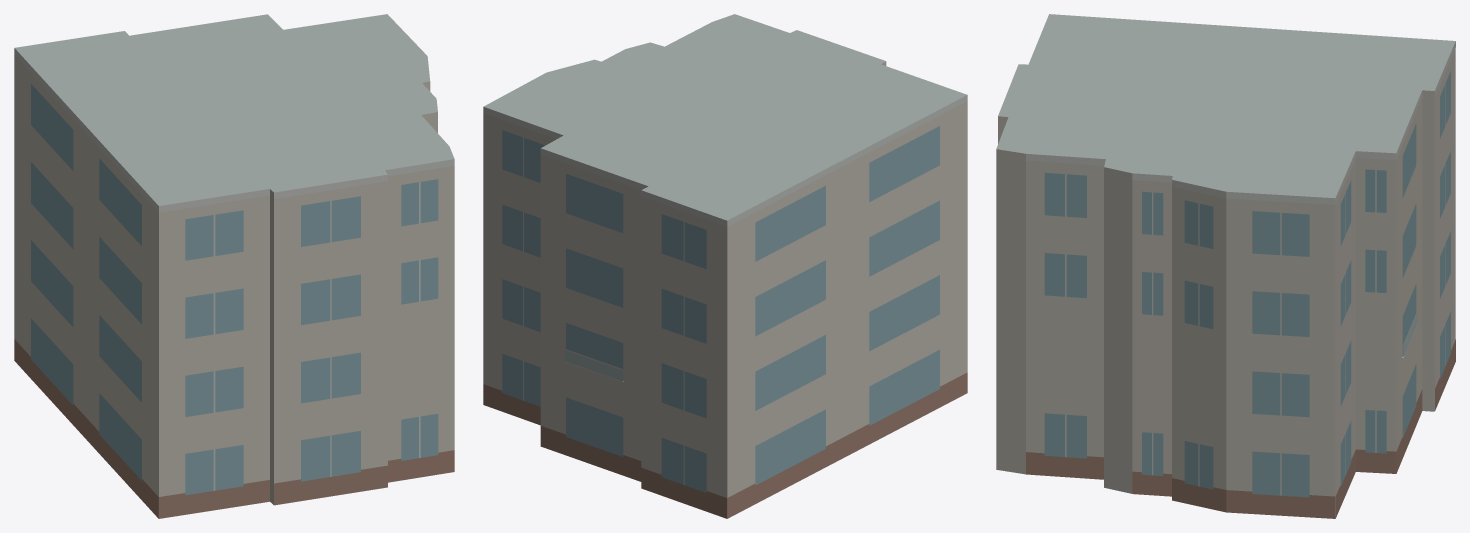
File: survey-upis-32663670.glb
The picture shows the model from 3 angles, left to right: view 1: azimuth 30°, elevation 25°; view 2: azimuth 150°, elevation 25°; view 3: azimuth 270°, elevation 25°; orthographic projection. The views are drawn at different scales.
Parts seen in each view (by area): view 1: survey-upis-32663670.tmp; view 2: survey-upis-32663670.tmp; view 3: survey-upis-32663670.tmp.
Boxes of the visible parts, x1,y1,x2,y2 form: survey-upis-32663670.tmp: (14, 14, 454, 518); survey-upis-32663670.tmp: (483, 14, 967, 518); survey-upis-32663670.tmp: (996, 14, 1455, 518).
Bounding box in the file's own units: 14.37 × 11.66 × 15.15.
